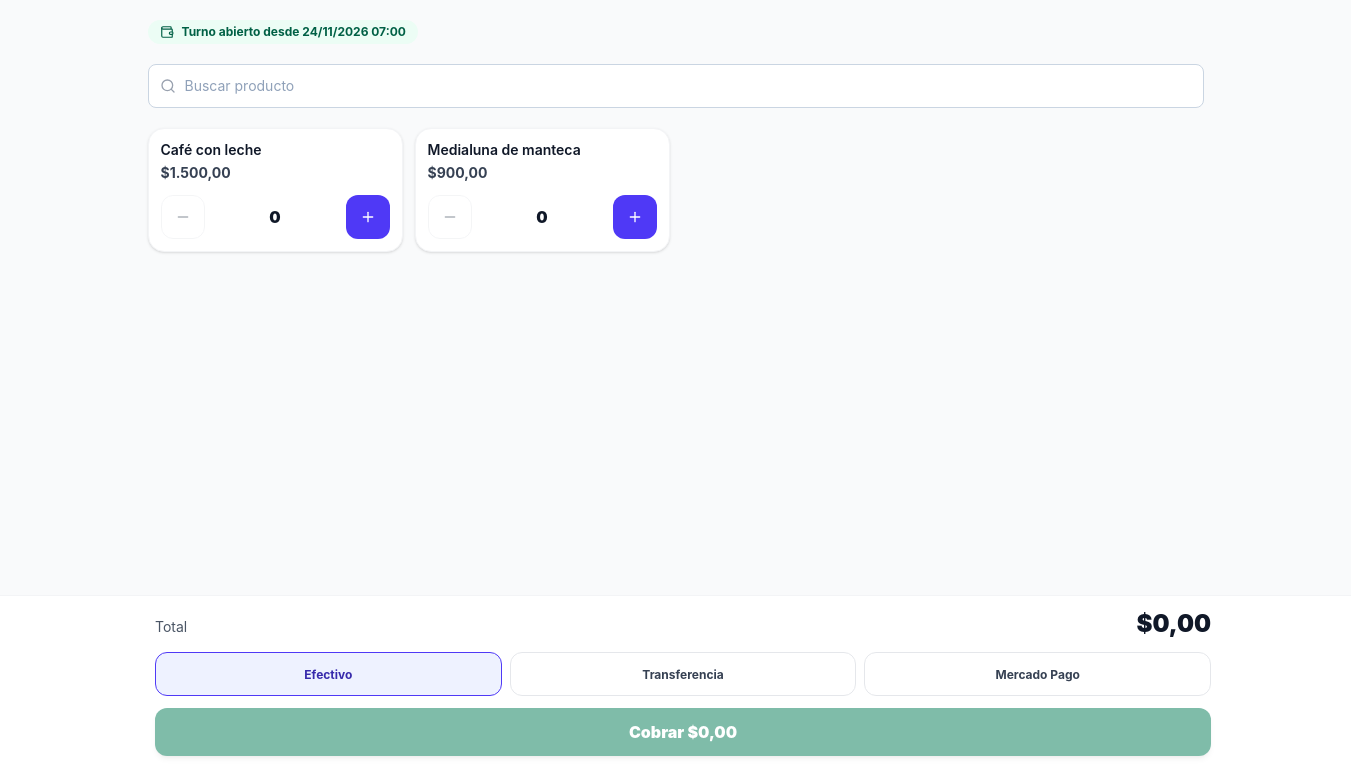
Test case: Nueva venta (/ventas/nueva) › solo ofrece productos con receta y precio, y busca sin tildes
Expected: the text "Medialuna de manteca" is shown, [428,141,581,158]
Expected: the text "Café con leche" is shown, [160,141,262,158]
Type "cafe" into the search field with placeholder "Buscar producto" at (676, 86), box [148,64,1204,108]
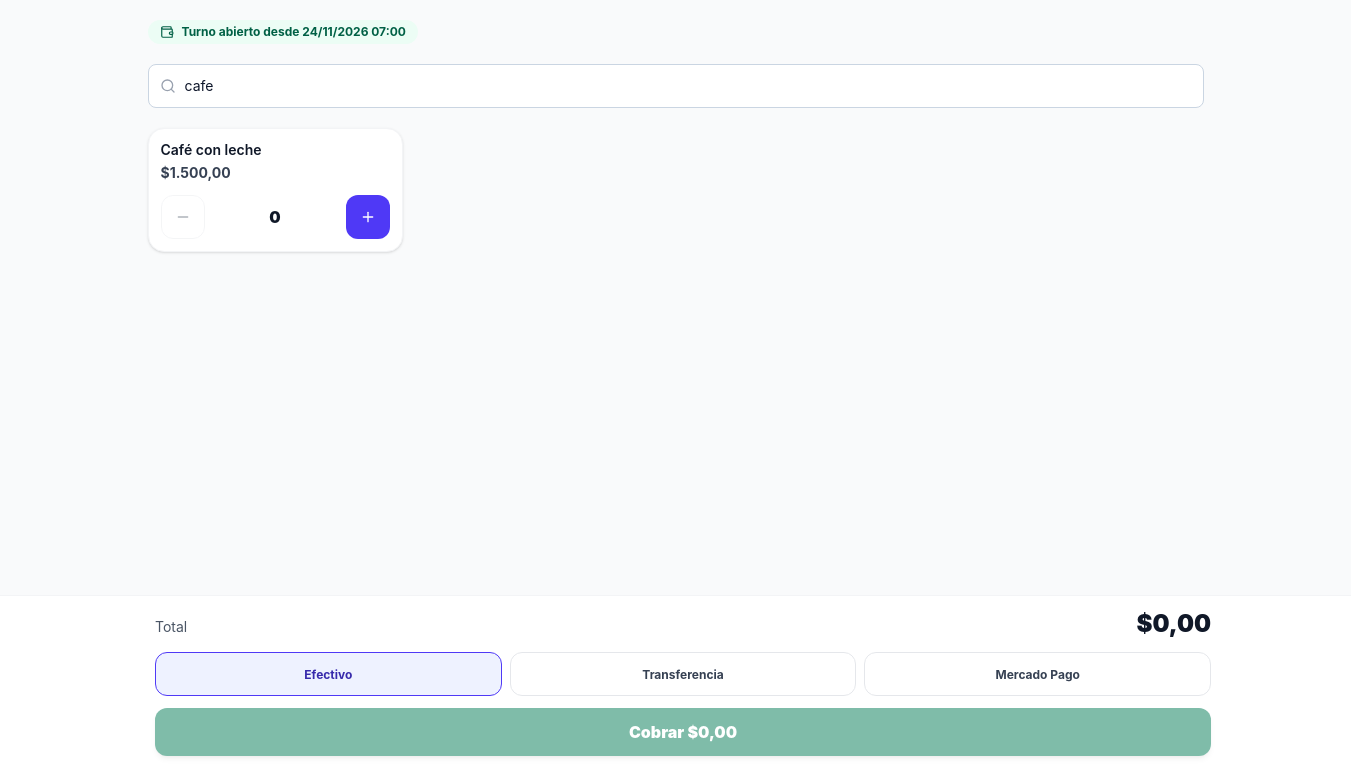
Expected: the text "Café con leche" is shown, [160,141,262,158]
Expected: the text "Medialuna de manteca" is gone
